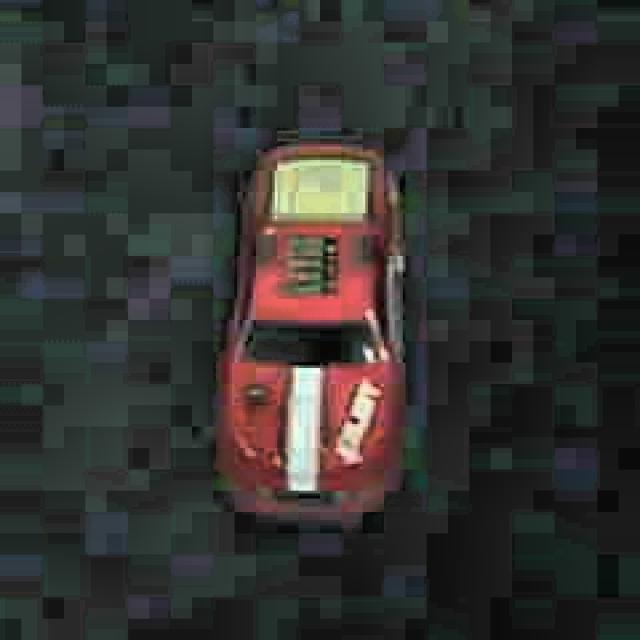car: (211, 135, 414, 528)
